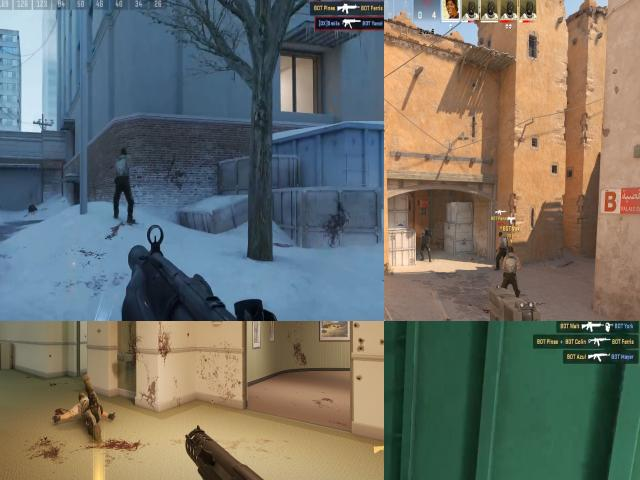CT: (419, 226, 433, 262)
CT-Head: (424, 228, 428, 233)
Dead: (53, 375, 119, 435), (26, 200, 38, 214)
T: (112, 148, 134, 186), (504, 246, 519, 294), (495, 232, 508, 270)
T-Head: (118, 147, 130, 163), (508, 246, 514, 254), (499, 231, 503, 236)
